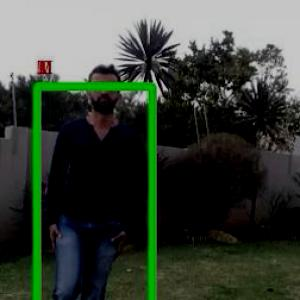follow: (42, 62, 133, 299)
